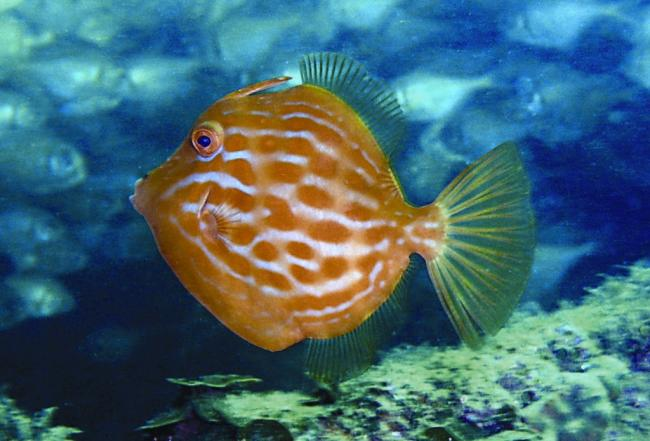fish: (129, 51, 536, 381)
